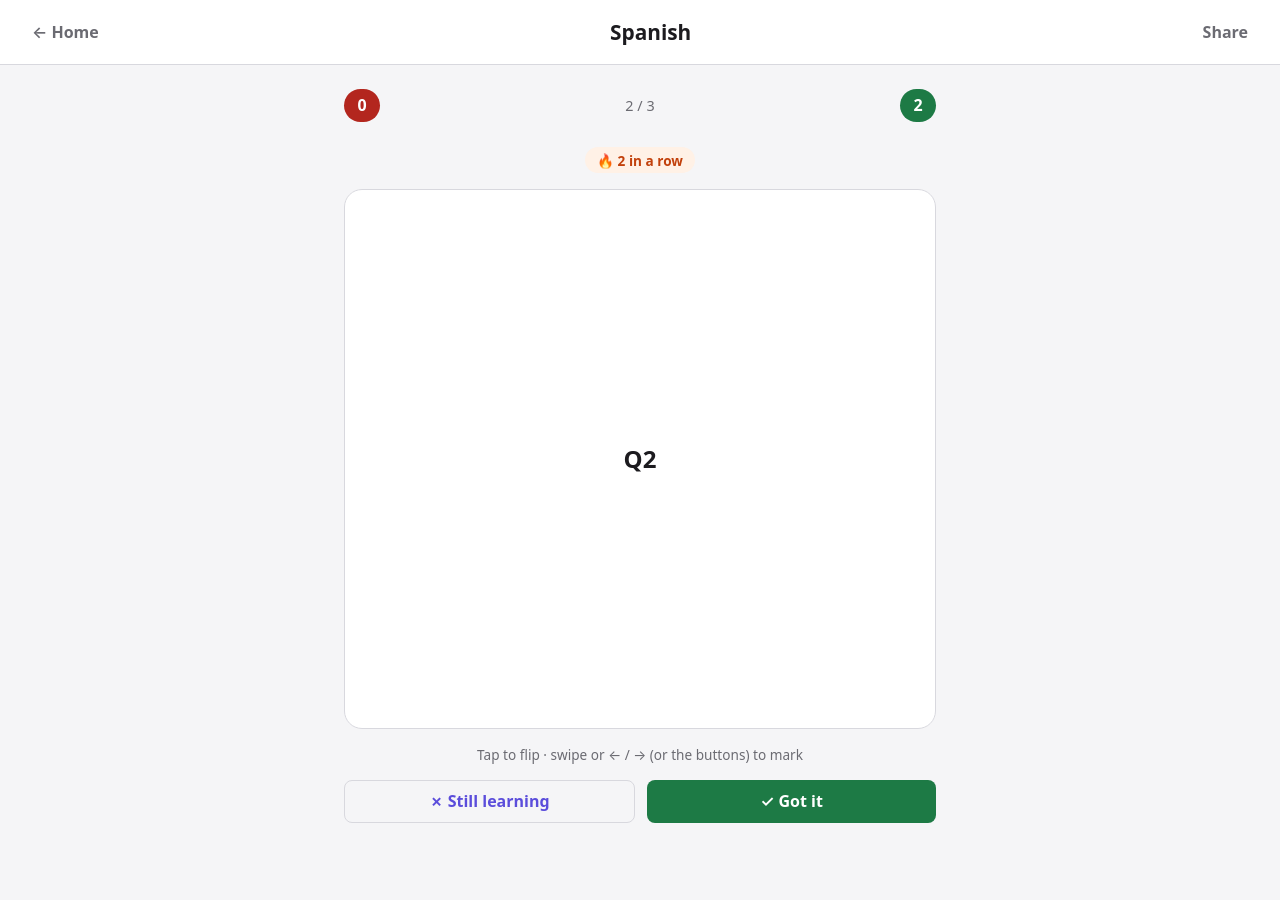
Test: PracticePage › resumes the in-session streak from the answer log (FLA-99)
Expected: the text "Q2" is shown, x1=624 y1=442 x2=656 y2=475
Click the button "✓ Got it": (792,801) x1=647 y1=780 x2=936 y2=823
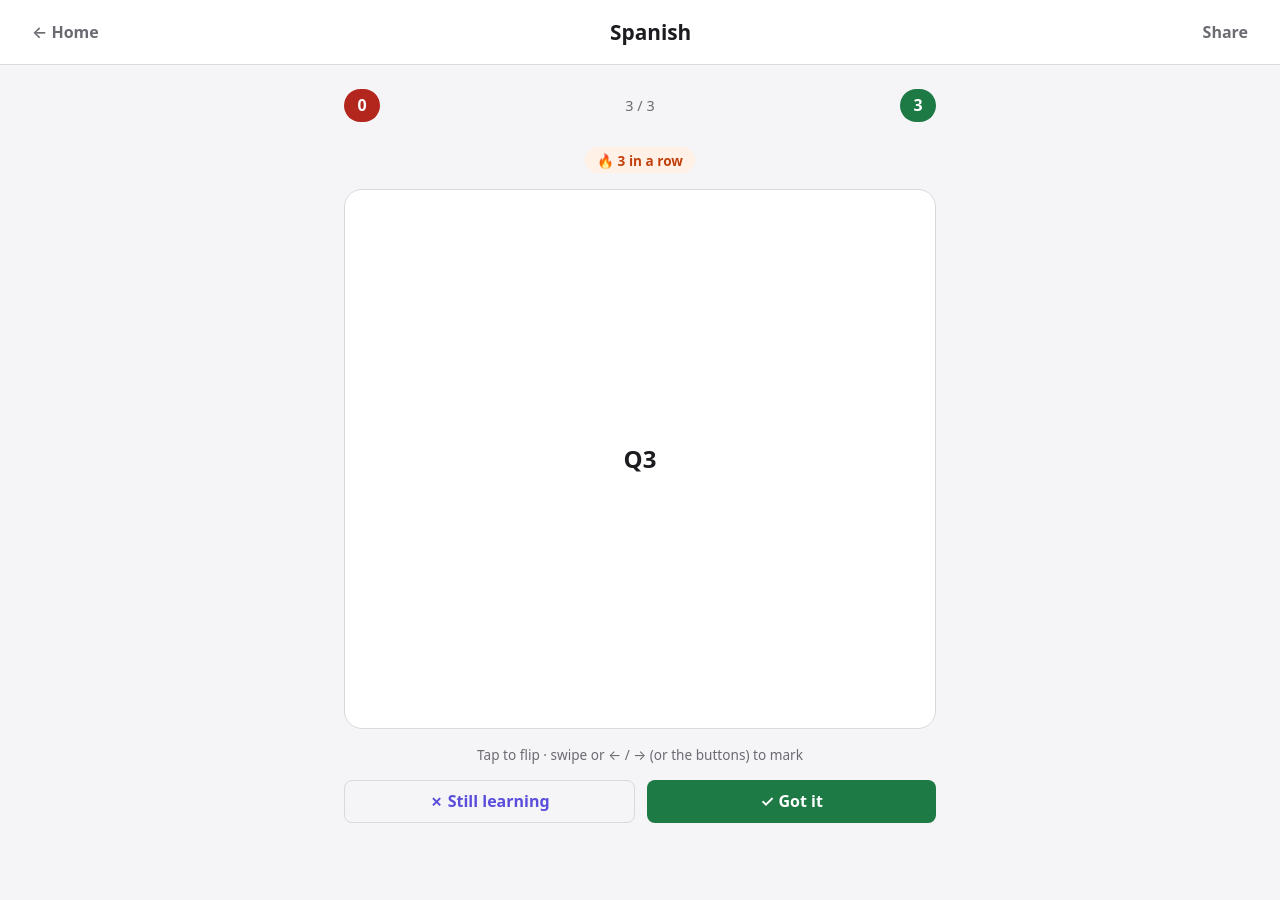
Expected: the text "🔥 3 in a row" is shown, x1=585 y1=147 x2=695 y2=173
